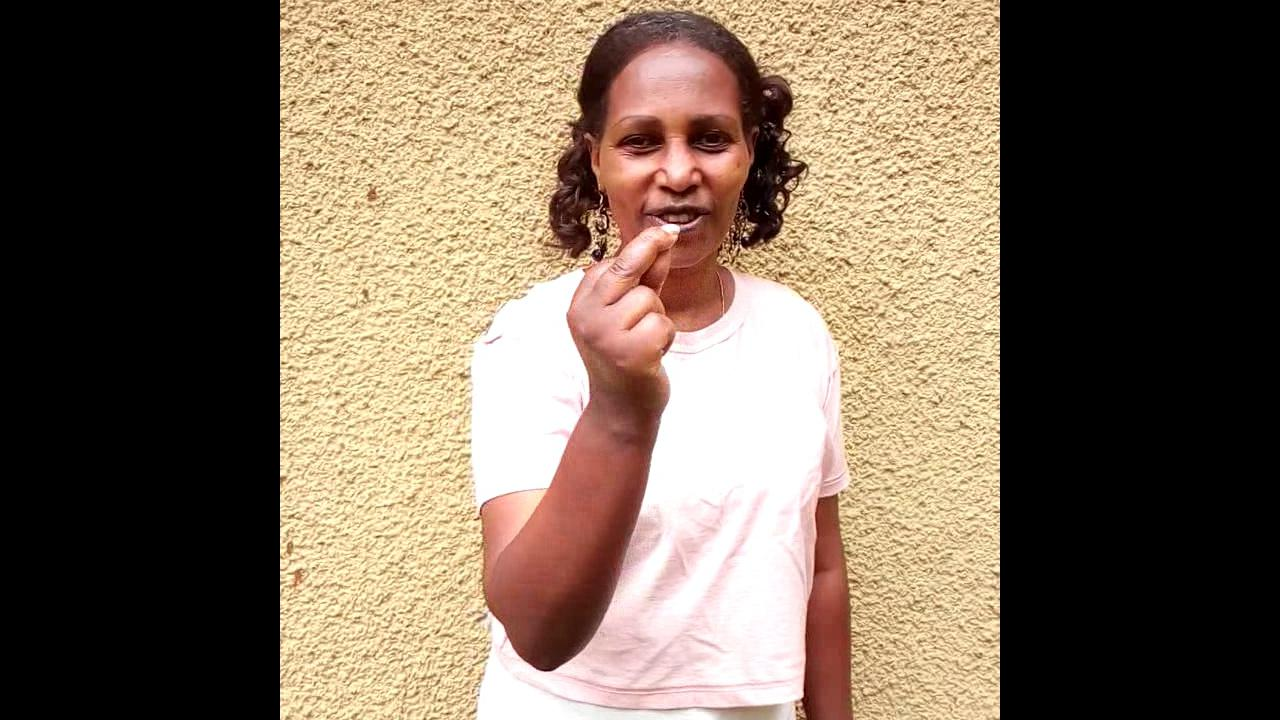CHE: (566, 224, 681, 509)
